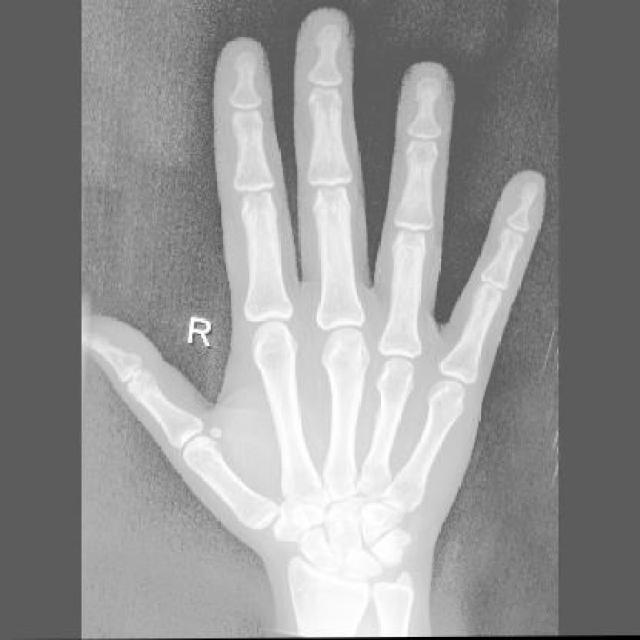Fracture: (374, 406, 397, 439)
